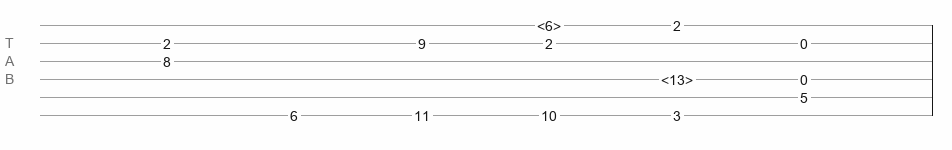0: (800, 36, 808, 46), (800, 72, 808, 82)
10: (541, 108, 557, 118)
11: (414, 108, 430, 118)
2: (163, 36, 171, 46), (545, 36, 553, 46), (673, 18, 681, 28)
3: (673, 108, 681, 118)
5: (800, 90, 808, 100)
6: (290, 108, 298, 118)
8: (163, 54, 171, 64)
9: (418, 36, 426, 46)
harmonic: (661, 72, 693, 82), (537, 18, 561, 28)
